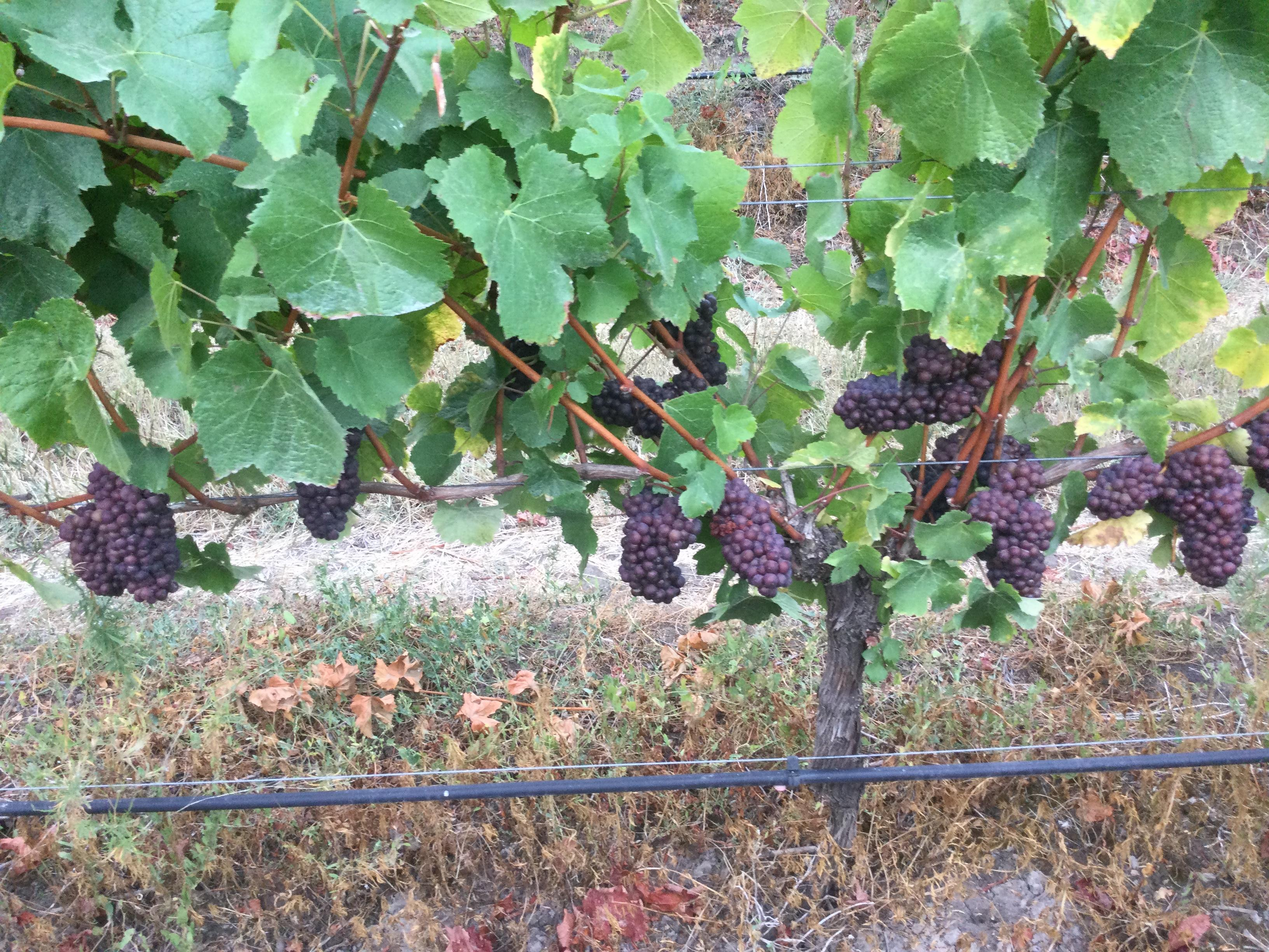leaf: (1072, 0, 1268, 194), (3, 0, 235, 158), (427, 144, 609, 343), (248, 152, 451, 316), (868, 0, 1045, 167), (894, 192, 1049, 352), (192, 340, 345, 485), (0, 298, 96, 448), (1130, 217, 1227, 360), (0, 129, 108, 254), (1012, 105, 1104, 249), (638, 147, 748, 262), (234, 49, 335, 159), (157, 159, 260, 266), (314, 315, 417, 418), (458, 53, 551, 146), (626, 164, 697, 283), (614, 0, 703, 92), (860, 0, 935, 104), (771, 84, 849, 184), (734, 0, 828, 78), (170, 195, 233, 309), (0, 240, 82, 327), (63, 380, 131, 481), (1169, 156, 1252, 238), (847, 168, 919, 252), (809, 16, 861, 132), (570, 103, 647, 178), (953, 578, 1042, 642), (1037, 294, 1117, 363), (174, 535, 262, 593), (1064, 0, 1154, 56), (784, 415, 877, 469), (149, 260, 192, 373), (128, 324, 192, 399), (398, 304, 462, 377), (395, 21, 454, 100), (789, 263, 843, 345), (886, 559, 965, 615), (228, 0, 292, 66), (113, 205, 176, 272), (575, 258, 637, 324), (547, 492, 598, 572), (1214, 313, 1268, 387), (912, 511, 991, 561), (532, 30, 569, 128), (1045, 472, 1087, 555), (676, 450, 726, 518), (216, 275, 277, 329), (663, 389, 716, 451), (118, 431, 171, 492), (432, 500, 503, 544), (1122, 399, 1171, 462), (731, 216, 790, 268), (505, 399, 567, 448), (805, 172, 846, 242), (410, 430, 462, 485), (764, 342, 820, 392), (1023, 0, 1064, 63), (369, 167, 431, 208), (522, 457, 582, 497), (825, 542, 881, 583), (713, 402, 756, 454), (418, 0, 493, 29), (1073, 399, 1124, 436), (654, 426, 692, 472), (357, 0, 416, 26), (0, 42, 16, 112), (1130, 247, 1141, 270), (256, 147, 271, 163), (230, 268, 250, 273), (922, 202, 934, 208), (0, 127, 3, 138), (424, 17, 430, 20), (376, 42, 379, 45), (710, 286, 712, 289), (789, 92, 791, 94), (794, 89, 796, 91), (896, 225, 898, 227), (381, 46, 383, 48), (798, 87, 801, 88), (932, 208, 933, 210), (817, 40, 817, 42)
